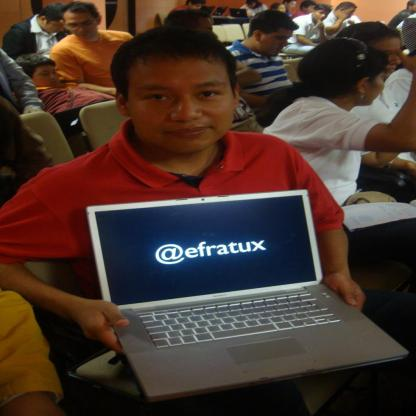board: (84, 190, 407, 398)
